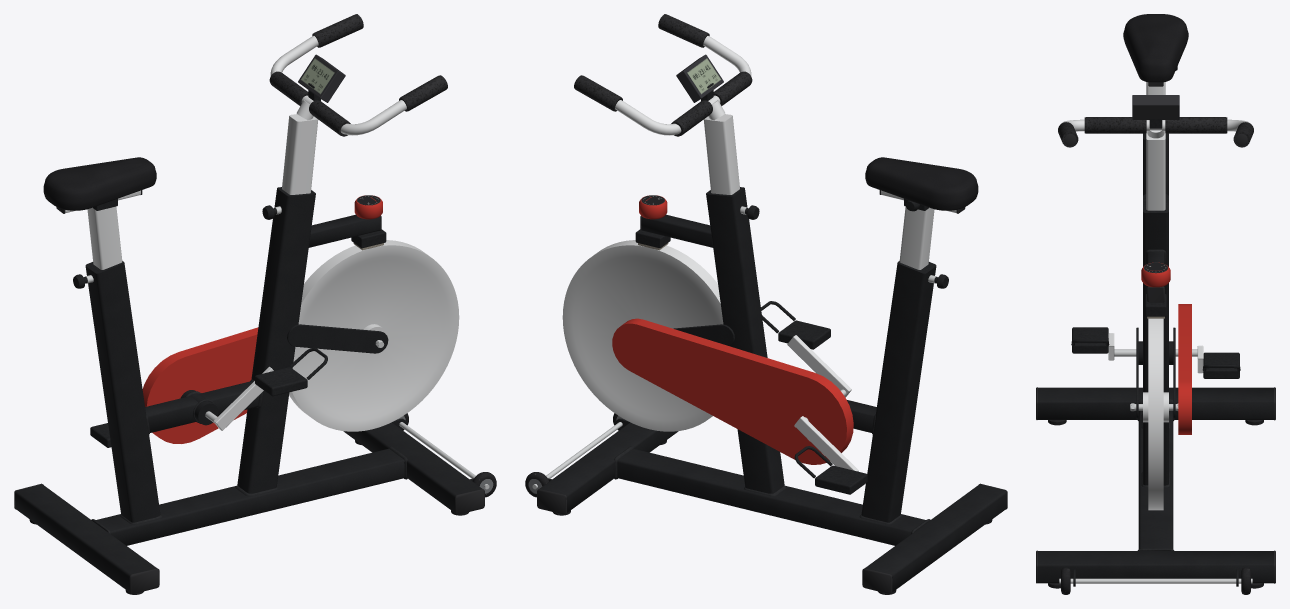
File: real_spin_bike.glb
3 views of the same model, side by side, from view 1: azimuth 30°, elevation 25°; view 2: azimuth 150°, elevation 25°; view 3: azimuth 270°, elevation 25° (orthographic). The views are drawn at different scales.
Parts seen in each view (by area): view 1: Bottom bracket beam, Crank arm, Belt guard (red), Saddle (black vinyl), Handlebar centre grip (foam), Brake arm End cap, Console display, Brake screw, BB beam Weld, Console housing; view 2: Bottom bracket beam, Crank arm, Belt guard (red), Saddle (black vinyl), Handlebar centre grip (foam), Brake arm End cap, Console display, Console housing, Brake screw; view 3: Bottom bracket beam, Crank arm, Saddle (black vinyl), Handlebar centre grip (foam), Belt guard (red), Brake screw, Console housing, Brake arm End cap, Levelling foot, BB beam Weld.
Part boxes in pixels (x1,y1,x2,y2): Bottom bracket beam: [15, 83, 482, 591]; Crank arm: [65, 36, 459, 431]; Belt guard (red): [142, 195, 382, 443]; Saddle (black vinyl): [43, 157, 156, 210]; Handlebar centre grip (foam): [269, 14, 447, 136]; Brake arm End cap: [14, 17, 484, 593]; Console display: [301, 58, 380, 205]; Brake screw: [85, 206, 489, 489]; BB beam Weld: [91, 235, 407, 533]; Console housing: [298, 54, 345, 102]; Bottom bracket beam: [539, 83, 1006, 591]; Crank arm: [562, 36, 956, 471]; Belt guard (red): [612, 195, 853, 464]; Saddle (black vinyl): [865, 157, 978, 210]; Handlebar centre grip (foam): [574, 14, 752, 136]; Brake arm End cap: [537, 17, 1007, 593]; Console display: [641, 58, 720, 205]; Console housing: [676, 54, 723, 102]; Brake screw: [532, 206, 936, 489]; Bottom bracket beam: [1038, 66, 1273, 586]; Crank arm: [1061, 82, 1250, 510]; Saddle (black vinyl): [1123, 14, 1188, 82]; Handlebar centre grip (foam): [1058, 117, 1253, 147]; Belt guard (red): [1141, 262, 1191, 434]; Brake screw: [1059, 349, 1252, 583]; Console housing: [1132, 95, 1179, 119]; Brake arm End cap: [1036, 82, 1275, 583]; Levelling foot: [1048, 420, 1263, 594]; BB beam Weld: [1137, 249, 1174, 550].
Size of the model in its own units: 1.12 by 1.15 by 0.559.
Materials: 15 (6 with a texture image).
